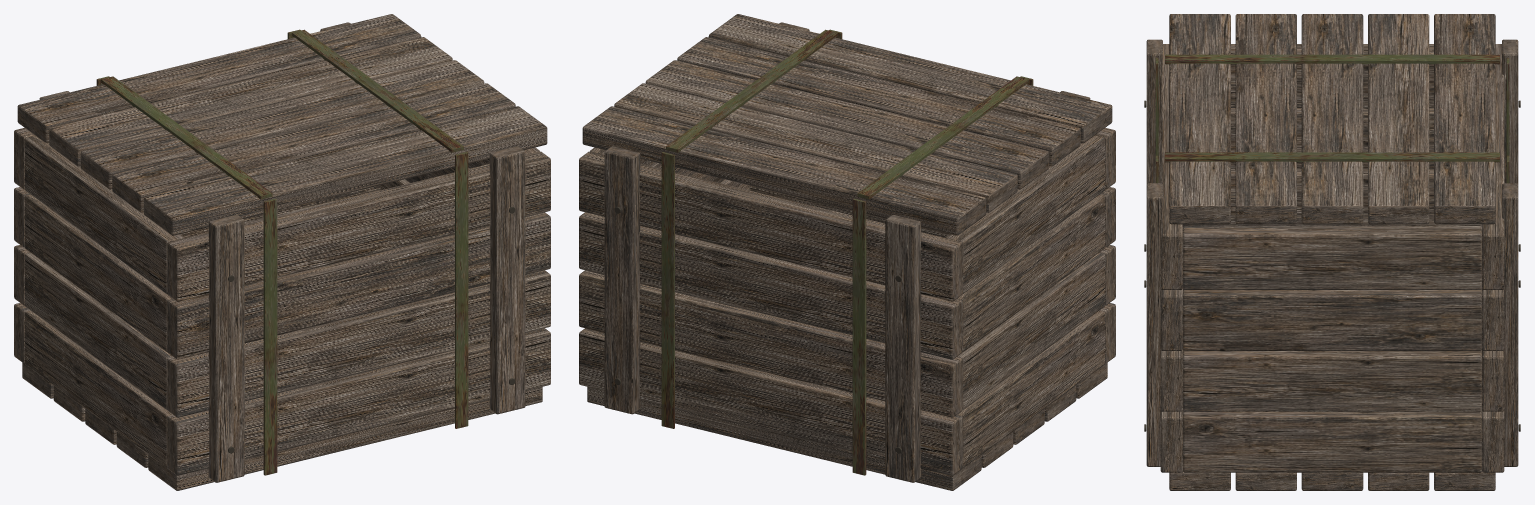
Rendered from WeatheredSupplyCrate.fbx.
3 renders of one model, left to right at view 1: azimuth 30°, elevation 25°; view 2: azimuth 150°, elevation 25°; view 3: azimuth 270°, elevation 25°, orthographic. The views are drawn at different scales.
Visible parts, largest first — view 1: WeatheredSupplyCrate; view 2: WeatheredSupplyCrate; view 3: WeatheredSupplyCrate.
Boxes of the visible parts, x1,y1,x2,y2 form: WeatheredSupplyCrate: (14,14,550,490); WeatheredSupplyCrate: (579,14,1115,490); WeatheredSupplyCrate: (1144,14,1520,490).
Bounding box in the file's own units: 96.3 × 68 × 79.62.
